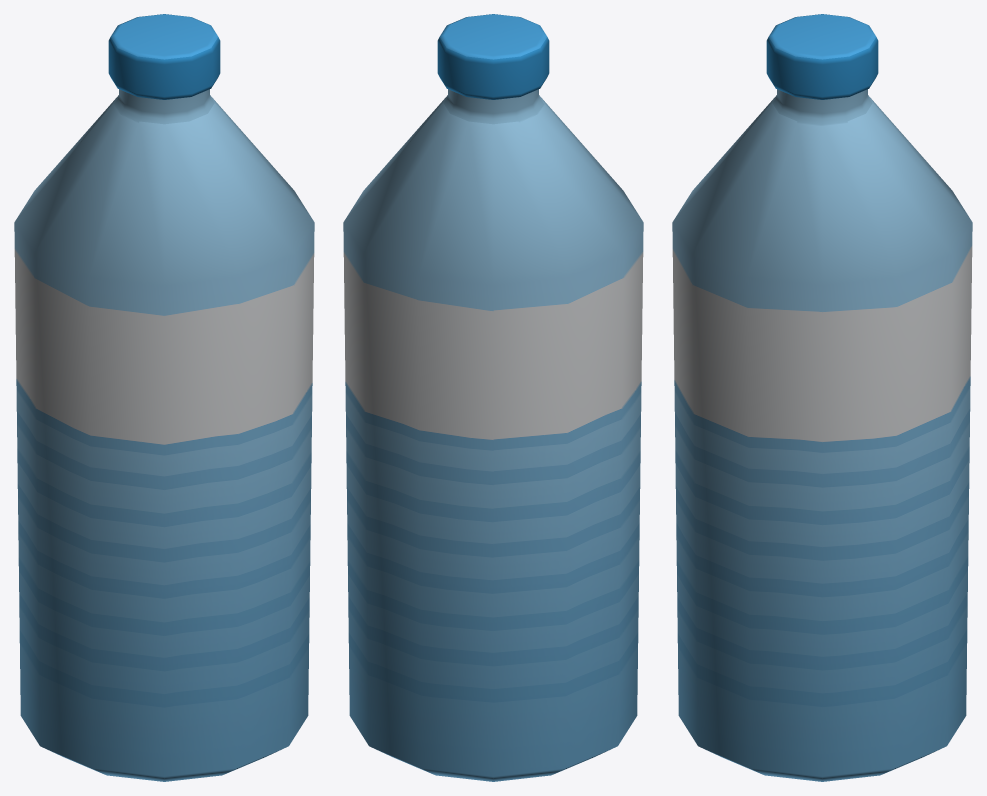
File: Bottle04.fbx
3 renders of one model, left to right at view 1: azimuth 30°, elevation 25°; view 2: azimuth 150°, elevation 25°; view 3: azimuth 270°, elevation 25°, orthographic.
Visible parts, largest first — view 1: Bottle4; view 2: Bottle4; view 3: Bottle4.
Boxes of the visible parts, bbox=[...] form: Bottle4: bbox=[14, 14, 314, 781]; Bottle4: bbox=[343, 14, 643, 781]; Bottle4: bbox=[672, 14, 972, 781].
Bounding box in the file's own units: 38.66 × 99.18 × 38.66.
